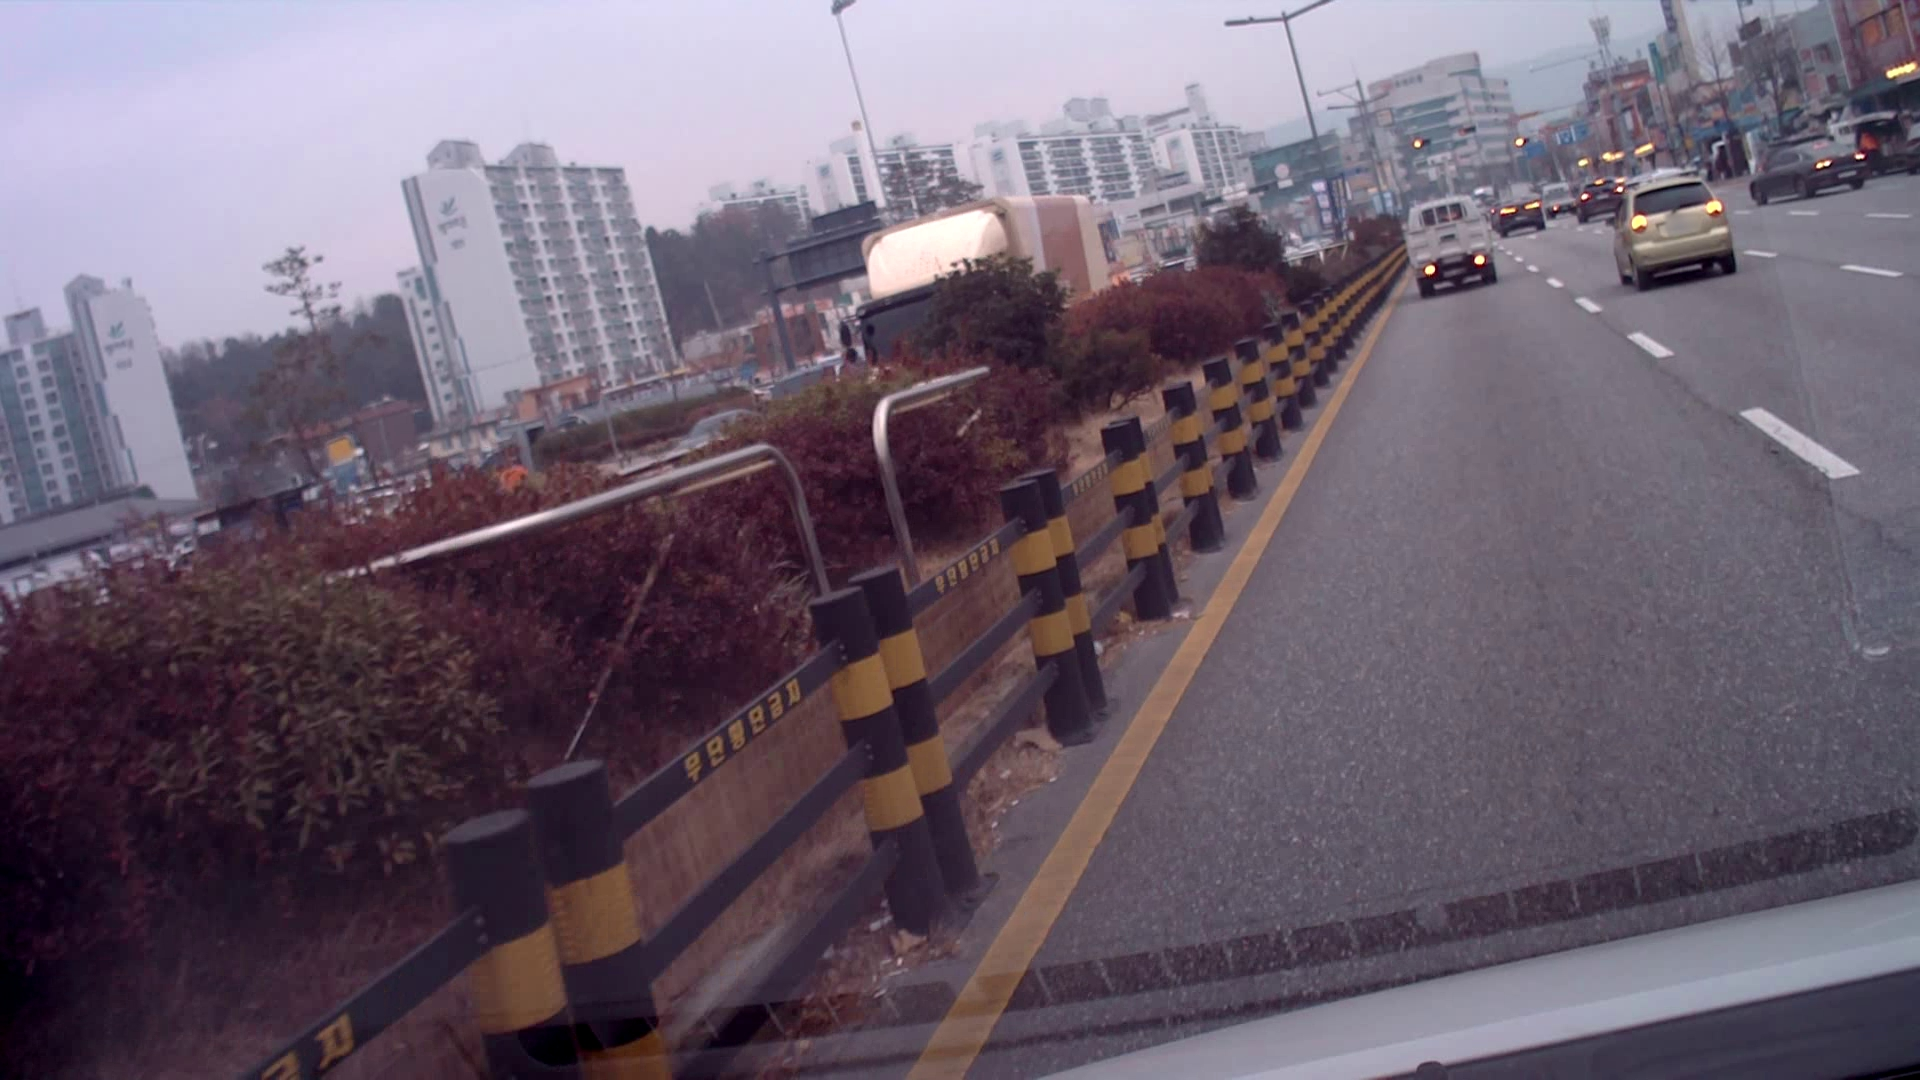trafficLight: (1410, 119, 1480, 152), (1513, 133, 1535, 152)
